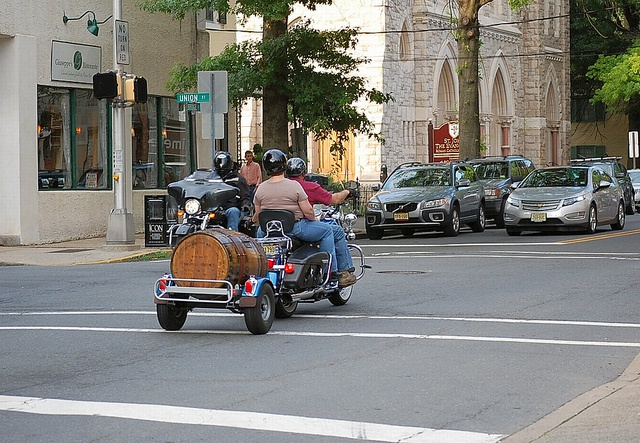non-vehicle: (153, 180, 372, 335), (166, 168, 259, 251)
